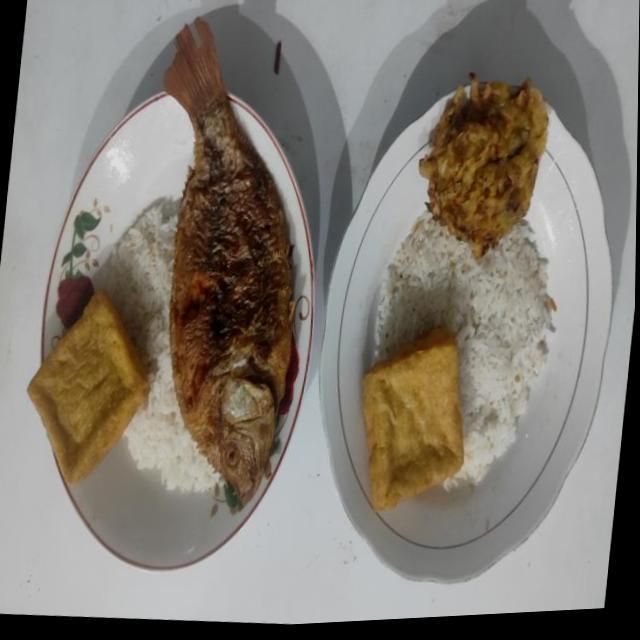ikan_mujair: (164, 19, 295, 506)
nasi_putih: (374, 213, 554, 490), (107, 198, 219, 491)
tahu_goreng: (28, 292, 150, 484), (362, 328, 463, 512)
